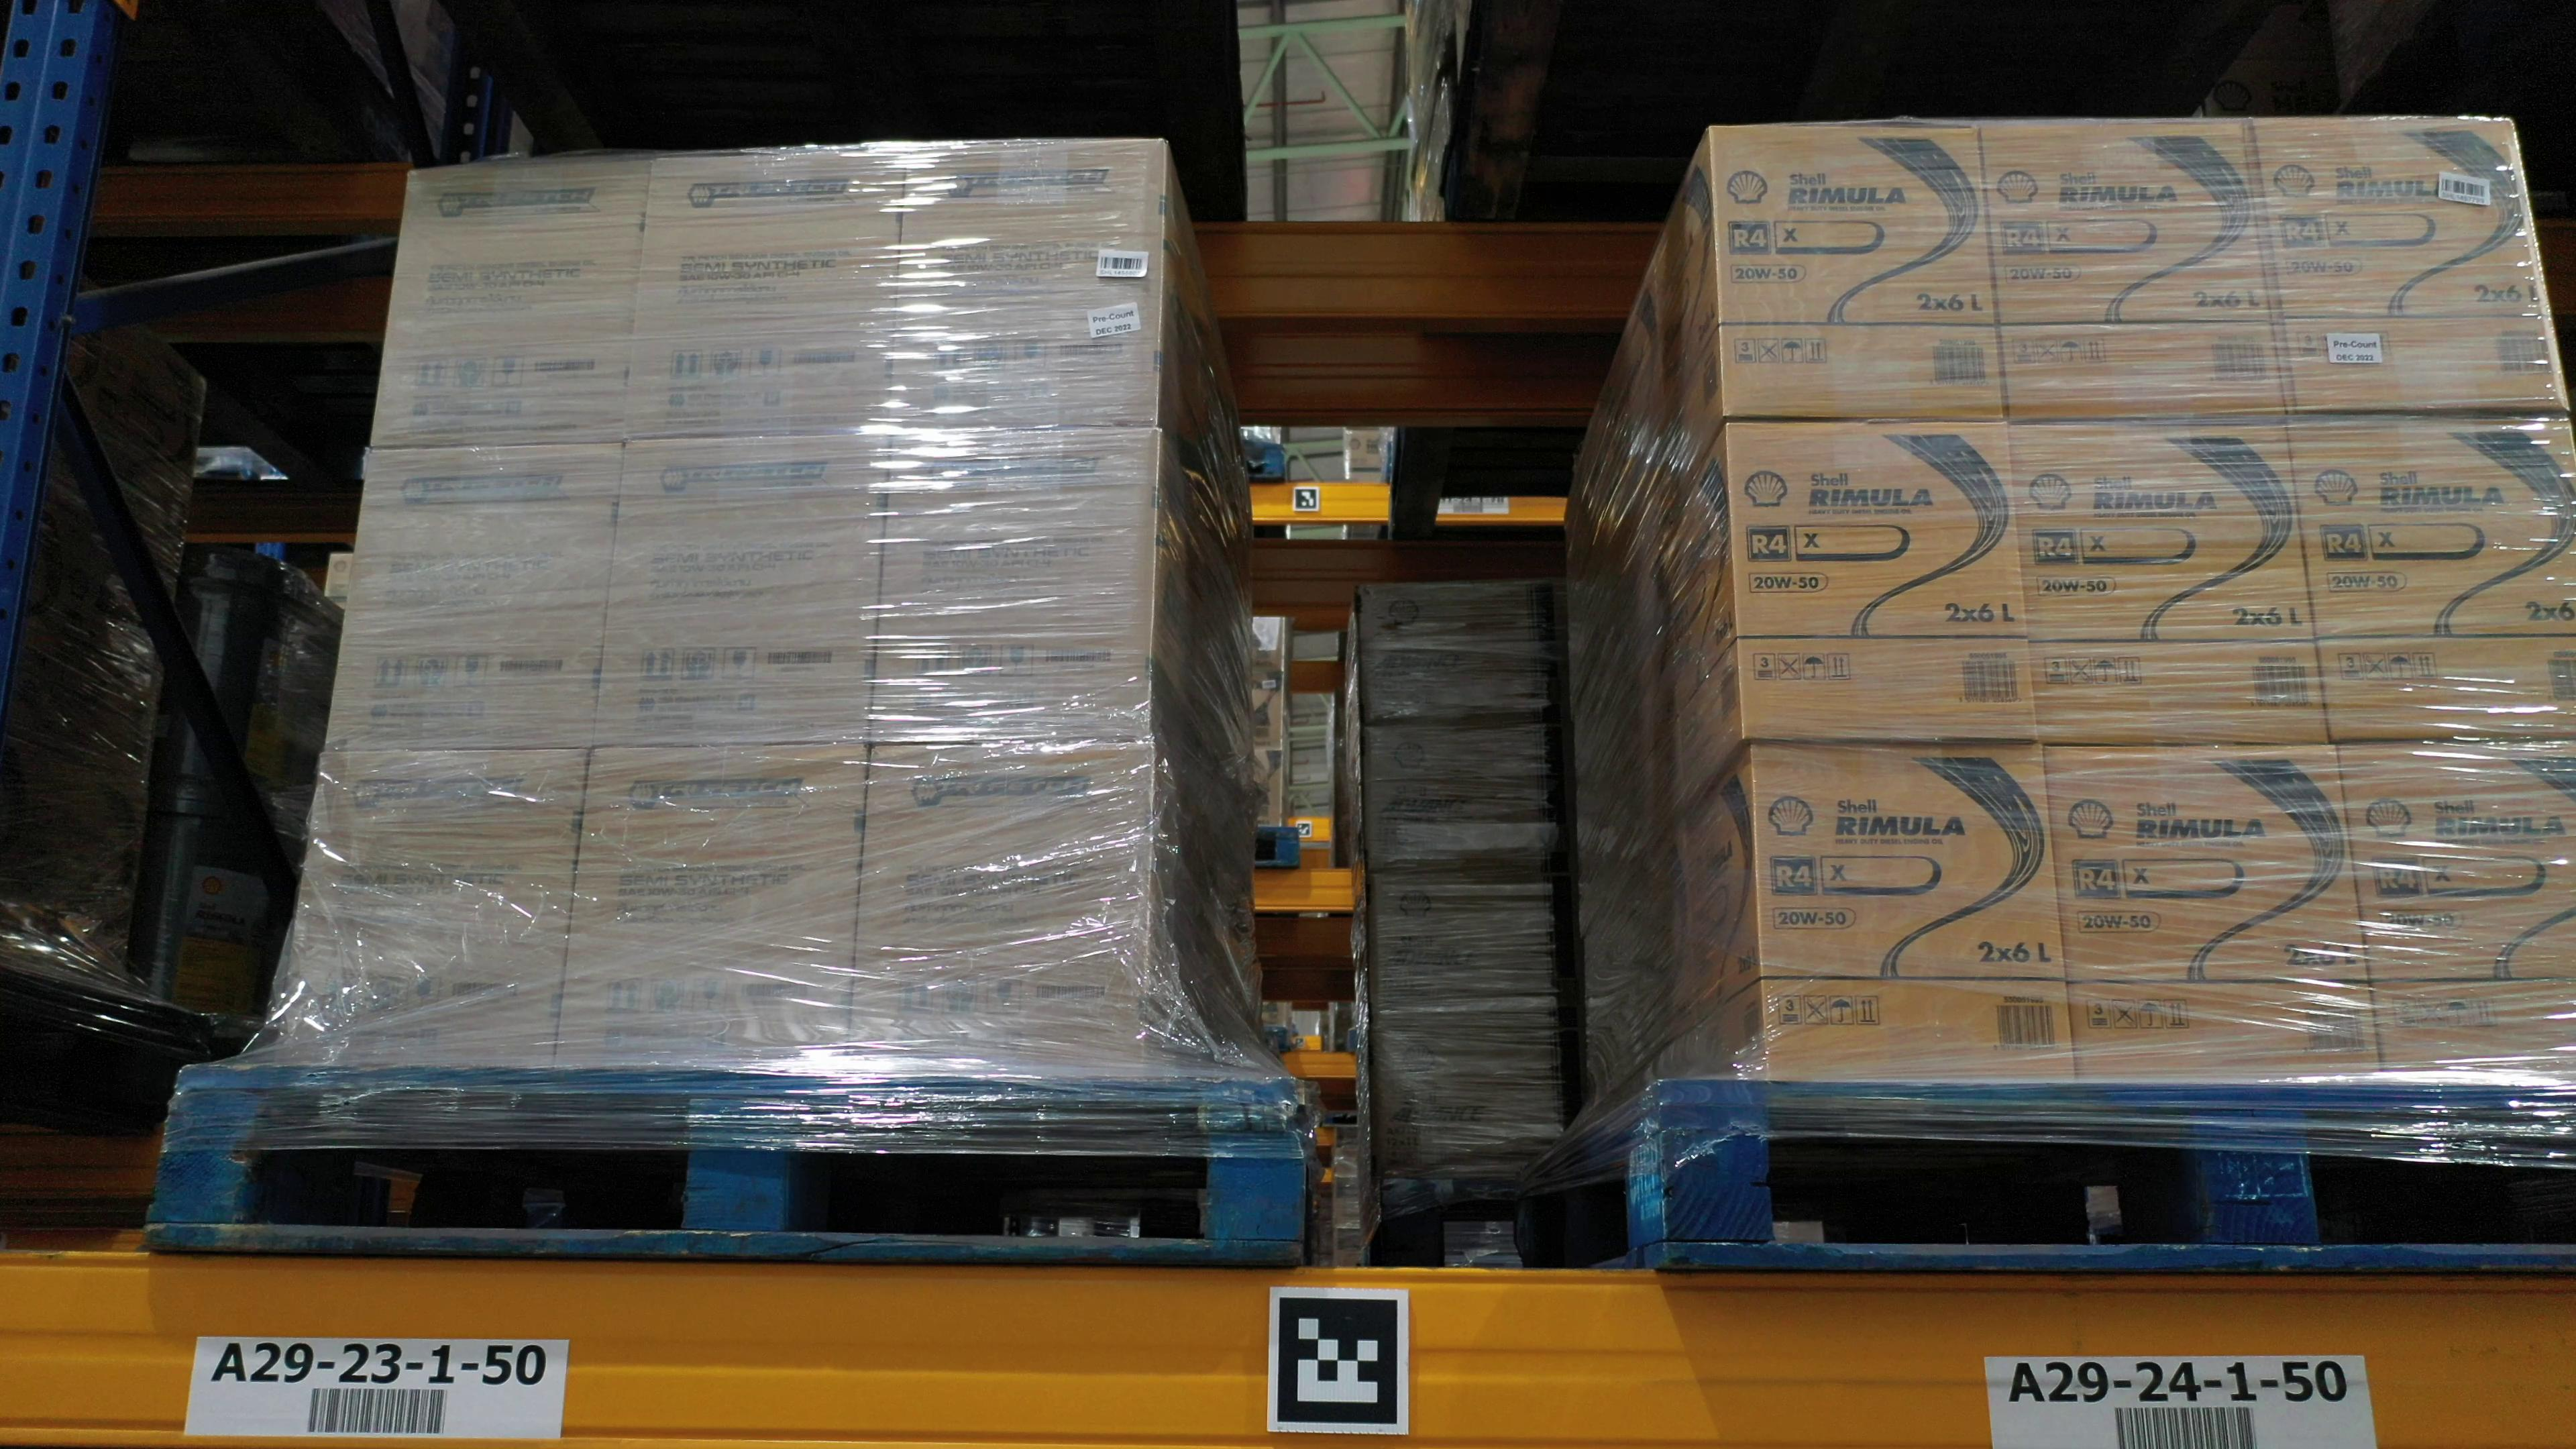-: (2043, 743, 2387, 1083), (1752, 743, 2079, 1083), (264, 748, 594, 1067), (1727, 418, 2045, 743), (2010, 421, 2328, 745), (554, 747, 872, 1067), (847, 743, 1155, 1067), (2245, 119, 2569, 412), (322, 441, 628, 748), (594, 432, 892, 745), (2288, 416, 2576, 738), (1980, 117, 2282, 423), (1709, 120, 2008, 423), (872, 430, 1161, 740), (2337, 738, 2576, 1086), (888, 138, 1171, 432), (373, 156, 651, 448), (628, 143, 904, 433)
box: (1369, 872, 1580, 1030), (1355, 579, 1571, 729), (1369, 1030, 1585, 1178), (1364, 724, 1576, 874)
